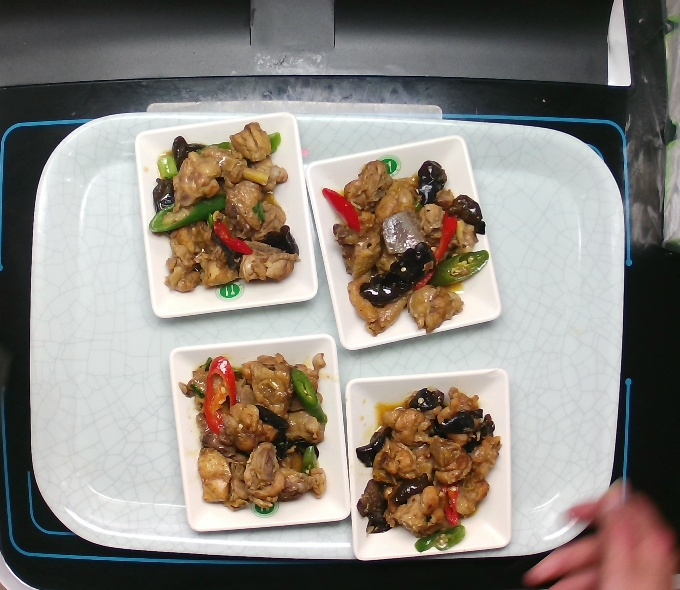wcq-LaZiJi: (322, 155, 494, 340), (146, 120, 306, 301), (175, 350, 340, 514), (353, 384, 504, 557)
